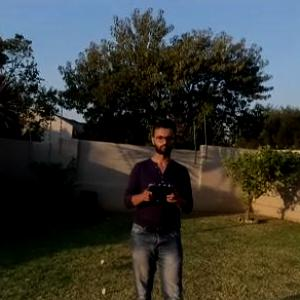follow: (123, 106, 202, 299)
